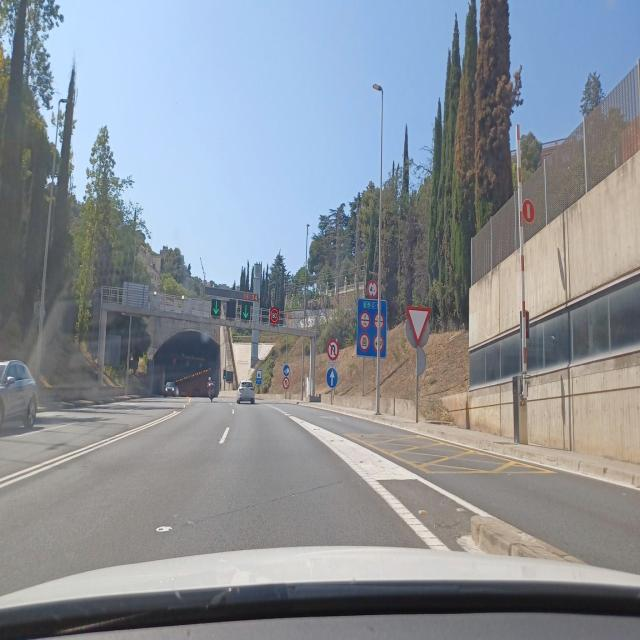bike: (207, 382, 215, 402)
car: (0, 358, 38, 438), (236, 379, 256, 404), (164, 379, 178, 396)
